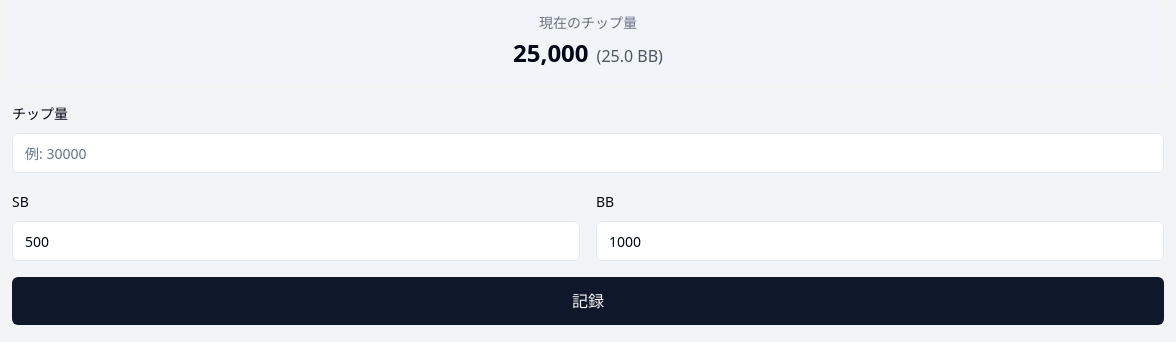
Test case: ChipRecordForm › shows fallback chip count when input is empty
This screenshot has width=1176, height=342.
Expected: the text "25,000" is shown, [513, 36, 589, 69]
// Clear input
Clear the field labelled "チップ量" at [588, 153], box [12, 133, 1164, 173]
// Also clear SB/BB inputs manually (as they would be after submit)
Clear the field labelled "BB" at [880, 241], box [596, 221, 1164, 261]
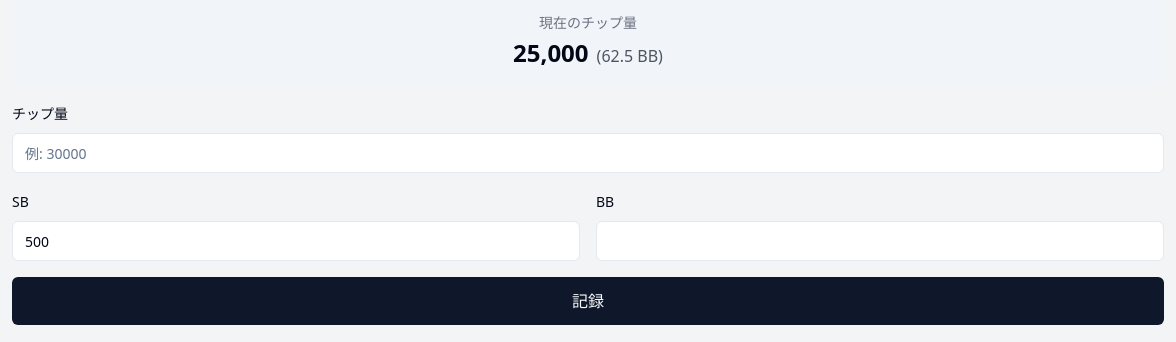
Expected: the text "25,000" is shown, [513, 36, 589, 69]
Now the text with test id "bb-display" reads "(62.5 BB)", box [597, 45, 663, 67]
